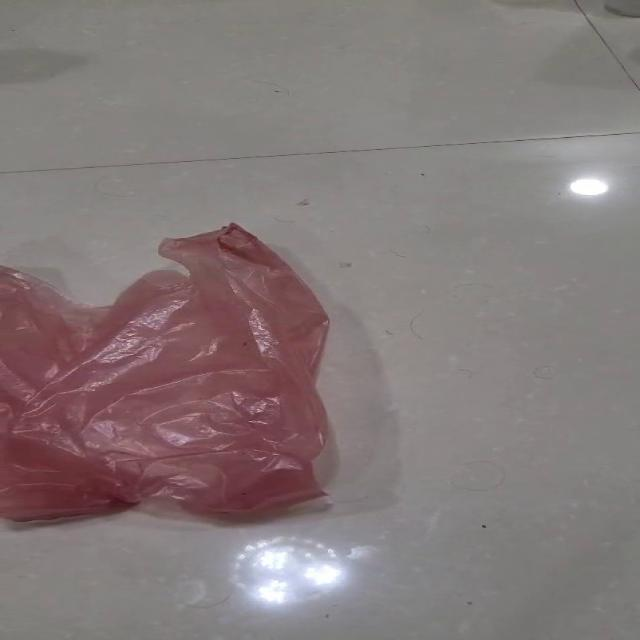plastic: (0, 220, 332, 522)
